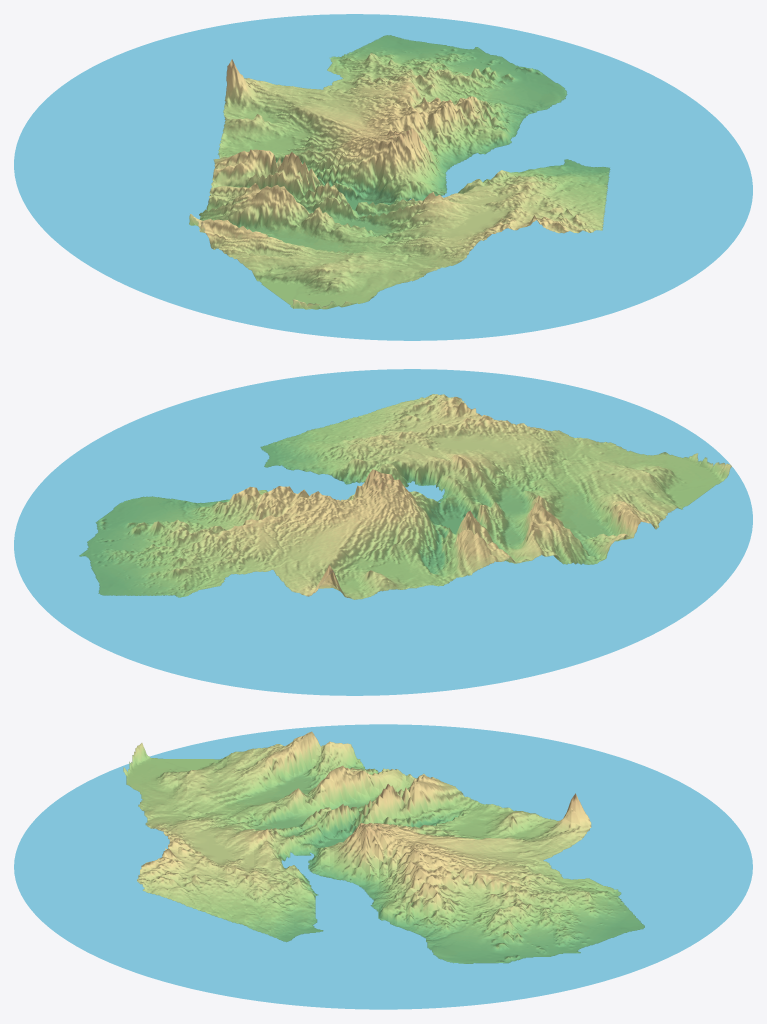
The model's file is DJI-terrain.glb.
The picture shows the model from 3 angles, top to bottom: view 1: azimuth 30°, elevation 25°; view 2: azimuth 150°, elevation 25°; view 3: azimuth 270°, elevation 25°; orthographic projection. The views are drawn at different scales.
Visible parts, largest first — view 1: Relevo com hidrografia; view 2: Relevo com hidrografia; view 3: Relevo com hidrografia.
Part boxes in pixels (box(x1,y1,x2,y2)): Relevo com hidrografia: box(14, 14, 752, 340); Relevo com hidrografia: box(14, 369, 752, 695); Relevo com hidrografia: box(14, 724, 752, 1009).
Size of the model in its own units: 2.08 by 0.1753 by 2.27.
2 materials, 1 textured.
